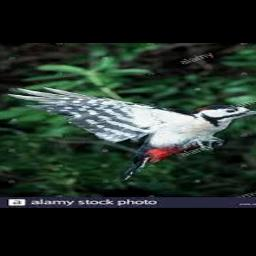Woodpecker: (8, 86, 256, 180)
